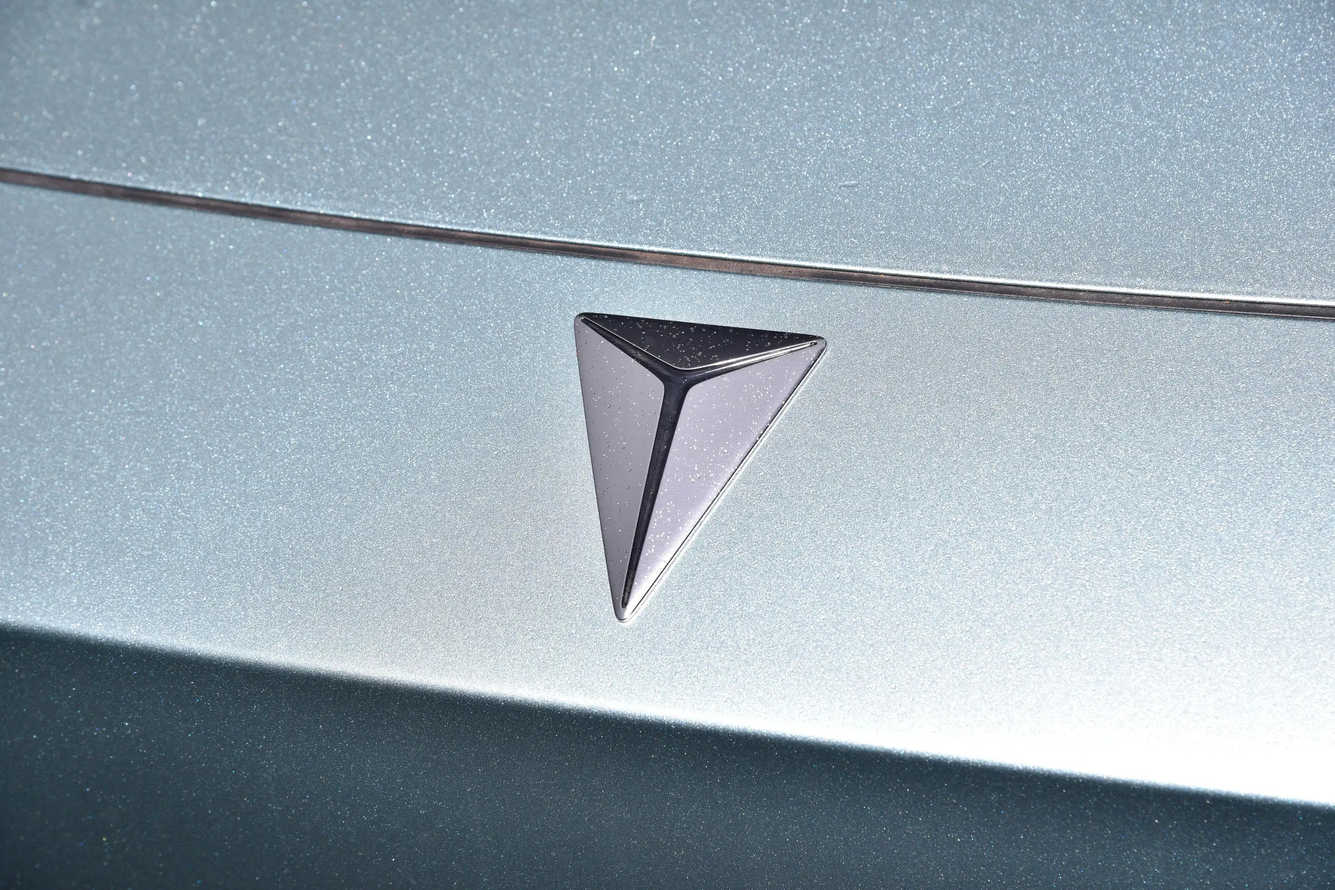Deepal: (574, 311, 827, 621)
